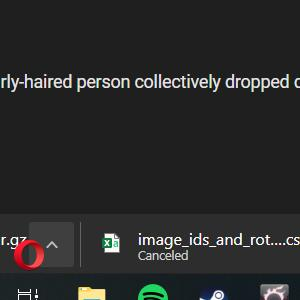opera: (14, 239, 44, 271)
